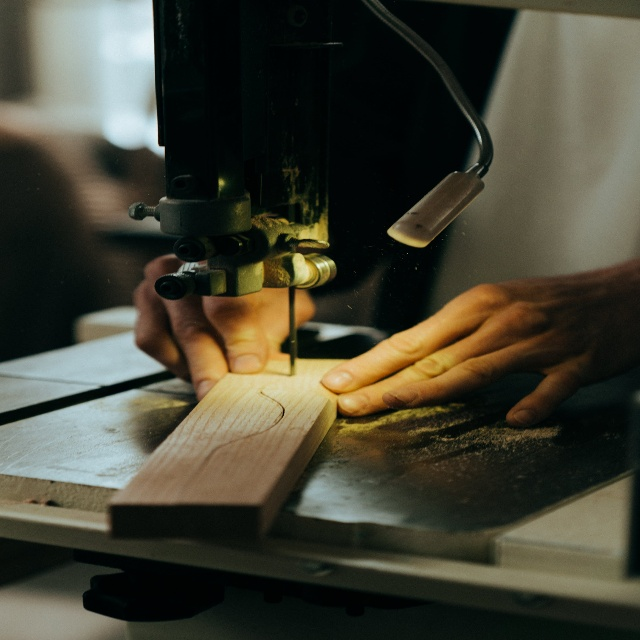Sin_guantes: (319, 259, 640, 432), (131, 245, 316, 402)
